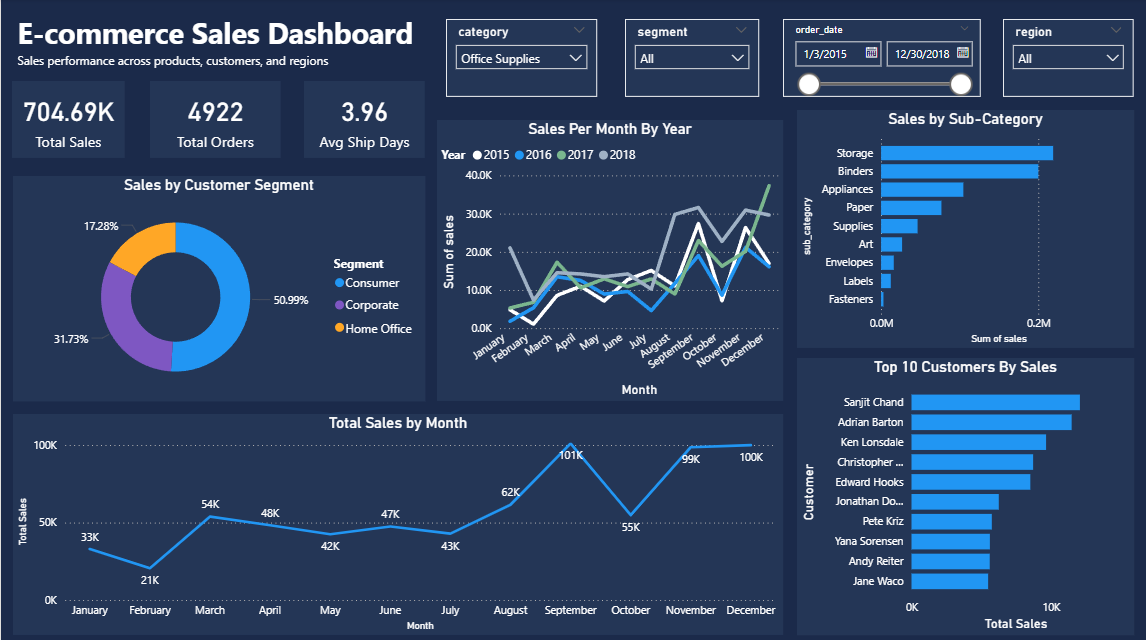

This screenshot's page, from the dashboard's own definition file:
{"tool":"powerbi","page":{"name":"Page 1","canvas":[1280,720],"ordinal":0},"visuals":[{"type":"card","fields":{"Values":["public orders.Avg Ship Days"]},"box":[338.9,91.9,135.3,85.8],"z":0,"group":"g1"},{"type":"lineChart","fields":{"Y":["public order_items.Total Sales"],"Category":["public orders.order_date.Variation.Date Hierarchy.Month"]},"box":[13.4,463.9,860.8,247.1],"z":0},{"type":"card","fields":{"Values":["public order_items.Total Sales"]},"box":[12.8,91.9,126.2,85.8],"z":1000,"group":"g1"},{"type":"textbox","box":[13.1,10.1,473.4,55.5],"z":2000},{"type":"card","fields":{"Values":["public orders.Total Orders"]},"box":[167.2,91.9,146.4,85.8],"z":2000,"group":"g1"},{"type":"textbox","box":[13.4,54.8,362.2,36.9],"z":3000},{"type":"group","id":"g1","title":"Group 1","box":[12.8,91.9,462,86.1],"z":4000},{"type":"slicer","fields":{"Values":["public orders.order_date"]},"box":[874.2,22.4,221.3,87.2],"z":5000},{"type":"slicer","fields":{"Values":["public customers.segment"]},"box":[697.6,22.4,149.8,87.2],"z":6000},{"type":"slicer","fields":{"Values":["public products.category"]},"box":[497.5,22.4,168.8,87.2],"z":7000},{"type":"slicer","fields":{"Values":["public locations.region"]},"box":[1120.1,22.4,146.4,87.2],"z":8000},{"type":"donutChart","title":"Sales by Customer Segment","fields":{"Category":["public customers.segment"],"Y":["Sum(public order_items.sales)"]},"box":[13.4,197.9,460.6,251.5],"z":8001},{"type":"clusteredBarChart","title":"Top 10 Customers By Sales","fields":{"Category":["public customers.customer_name"],"Y":["Sum(public order_items.sales)"]},"box":[889.9,401.3,376.7,309.7],"z":8002},{"type":"lineChart","title":"Sales Per Month By Year","fields":{"Series":["public orders.Year"],"Y":["Sum(public order_items.sales)"],"Category":["public orders.order_date.Variation.Date Hierarchy.Month"]},"box":[487.4,135.3,386.8,314.1],"z":8003},{"type":"clusteredBarChart","title":"Sales by Sub-Category","fields":{"Category":["public products.sub_category"],"Y":["Sum(public order_items.sales)"]},"box":[889.9,124.1,376.7,266.1],"z":8004}]}

Visuals, with their boxes in screenshot pixels (x1, y1, x2, y2), scaled from the page's 1280x720 canvas onto the 1146x640 screenshot:
card - public orders.Avg Ship Days: pyautogui.locateOnScreen(303, 82, 425, 158)
lineChart - public order_items.Total Sales x public orders.order_date.Variation.Date Hierarchy.Month: pyautogui.locateOnScreen(12, 412, 783, 632)
card - public order_items.Total Sales: pyautogui.locateOnScreen(11, 82, 124, 158)
textbox: pyautogui.locateOnScreen(12, 9, 436, 58)
card - public orders.Total Orders: pyautogui.locateOnScreen(150, 82, 281, 158)
textbox: pyautogui.locateOnScreen(12, 49, 336, 82)
"Group 1" group: pyautogui.locateOnScreen(11, 82, 425, 158)
slicer - public orders.order_date: pyautogui.locateOnScreen(783, 20, 981, 97)
slicer - public customers.segment: pyautogui.locateOnScreen(625, 20, 759, 97)
slicer - public products.category: pyautogui.locateOnScreen(445, 20, 597, 97)
slicer - public locations.region: pyautogui.locateOnScreen(1003, 20, 1134, 97)
"Sales by Customer Segment" donutChart: pyautogui.locateOnScreen(12, 176, 424, 399)
"Top 10 Customers By Sales" clusteredBarChart: pyautogui.locateOnScreen(797, 357, 1134, 632)
"Sales Per Month By Year" lineChart: pyautogui.locateOnScreen(436, 120, 783, 399)
"Sales by Sub-Category" clusteredBarChart: pyautogui.locateOnScreen(797, 110, 1134, 347)
